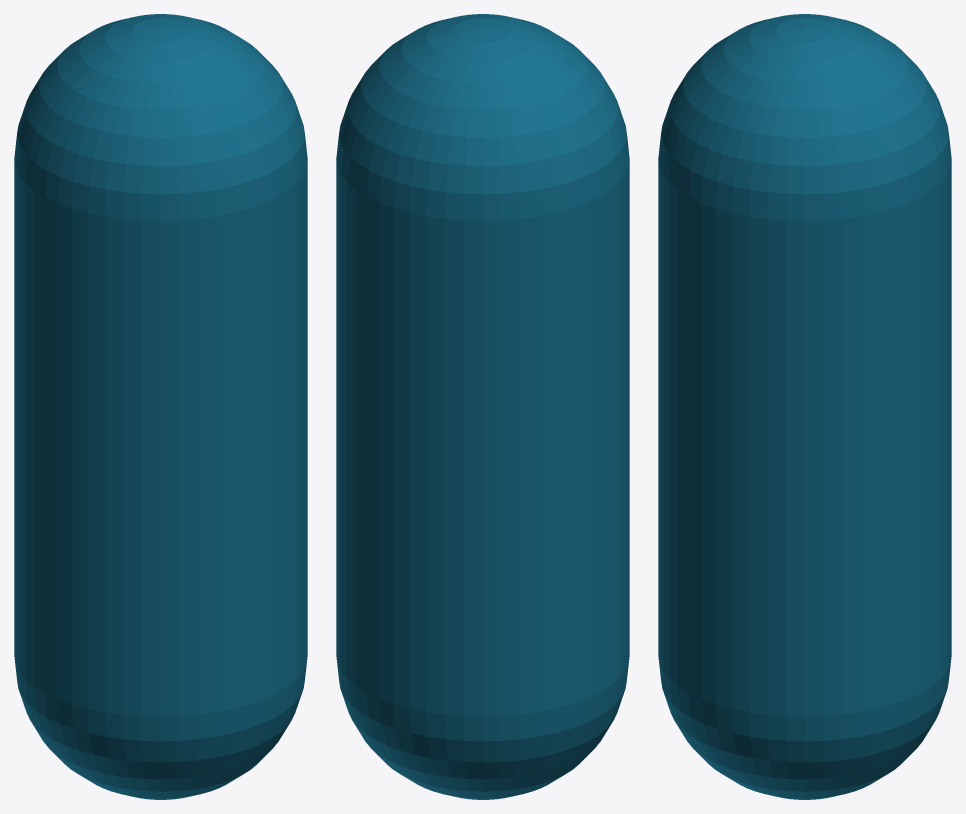
The model's file is Body.glb.
3 views of the same model, side by side, from view 1: azimuth 30°, elevation 25°; view 2: azimuth 150°, elevation 25°; view 3: azimuth 270°, elevation 25° (orthographic).
Visible parts, largest first — view 1: geometry_0; view 2: geometry_0; view 3: geometry_0.
Part boxes in pixels (<box>): geometry_0: <box>14,14,307,799</box>; geometry_0: <box>336,14,629,799</box>; geometry_0: <box>658,14,951,799</box>.
Size of the model in its own units: 0.81 by 2.31 by 0.81.
